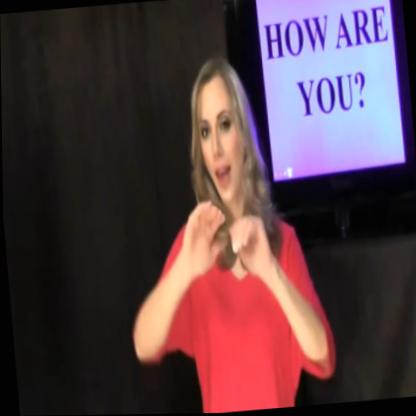HowAreYou: (173, 186, 284, 318)
